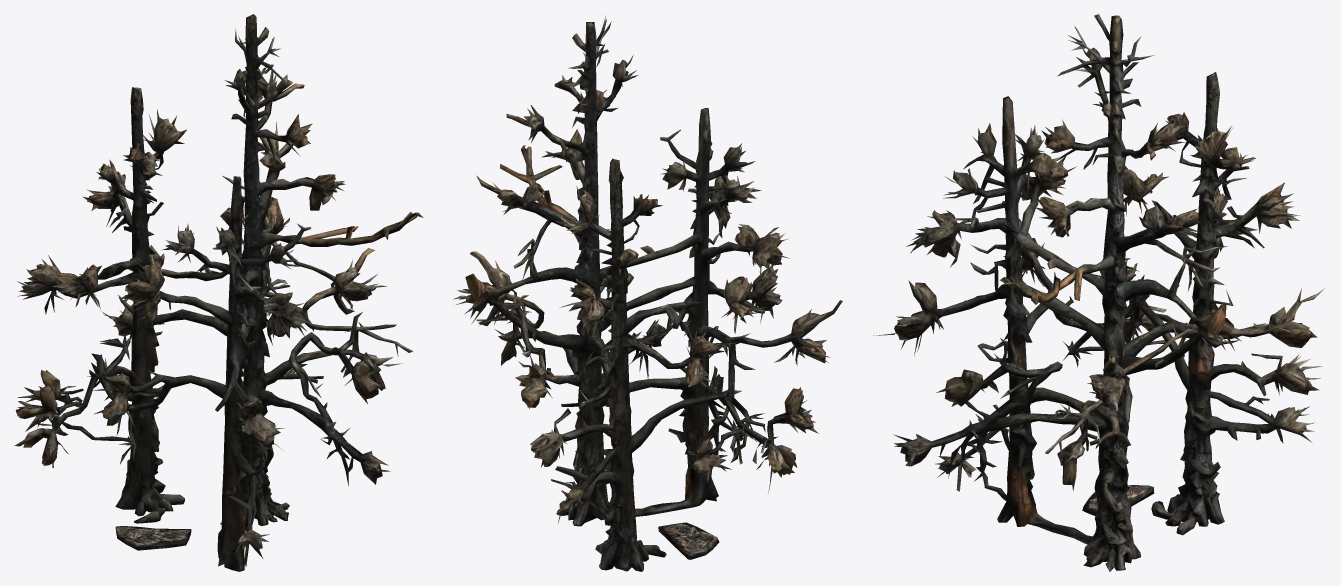
Rendered from bg_pines.glb.
The picture shows the model from 3 angles, left to right: view 1: azimuth 30°, elevation 25°; view 2: azimuth 150°, elevation 25°; view 3: azimuth 270°, elevation 25°; orthographic projection. The views are drawn at different scales.
Visible parts, largest first — view 1: tripo_node_8a838425-910d-4d7d-ab0d-a7f89c163933; view 2: tripo_node_8a838425-910d-4d7d-ab0d-a7f89c163933; view 3: tripo_node_8a838425-910d-4d7d-ab0d-a7f89c163933.
Part boxes in pixels (box(x1,y1,x2,y2)): tripo_node_8a838425-910d-4d7d-ab0d-a7f89c163933: box(14, 14, 423, 571); tripo_node_8a838425-910d-4d7d-ab0d-a7f89c163933: box(453, 15, 842, 571); tripo_node_8a838425-910d-4d7d-ab0d-a7f89c163933: box(873, 14, 1325, 571).
Size of the model in its own units: 0.7635 by 1 by 0.7649.
Materials: 1 (1 with a texture image).
